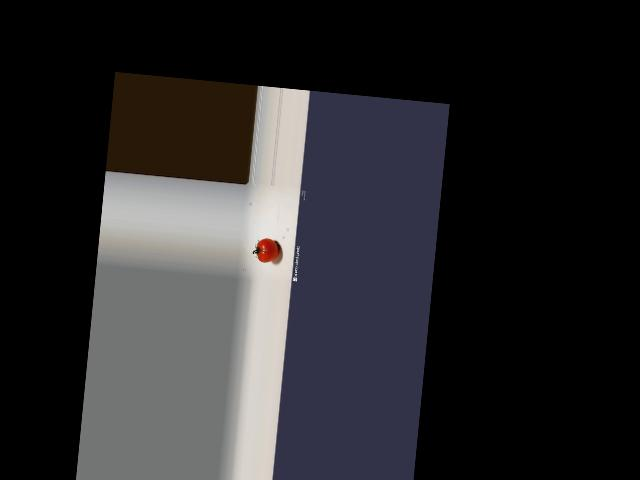tomato: (256, 237, 279, 263)
